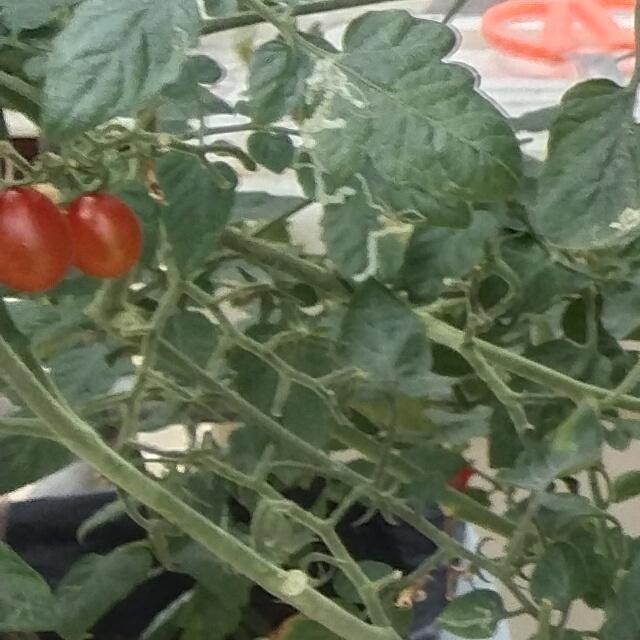Leaf_Miner: (300, 7, 523, 209), (533, 77, 640, 253), (312, 188, 420, 288)
